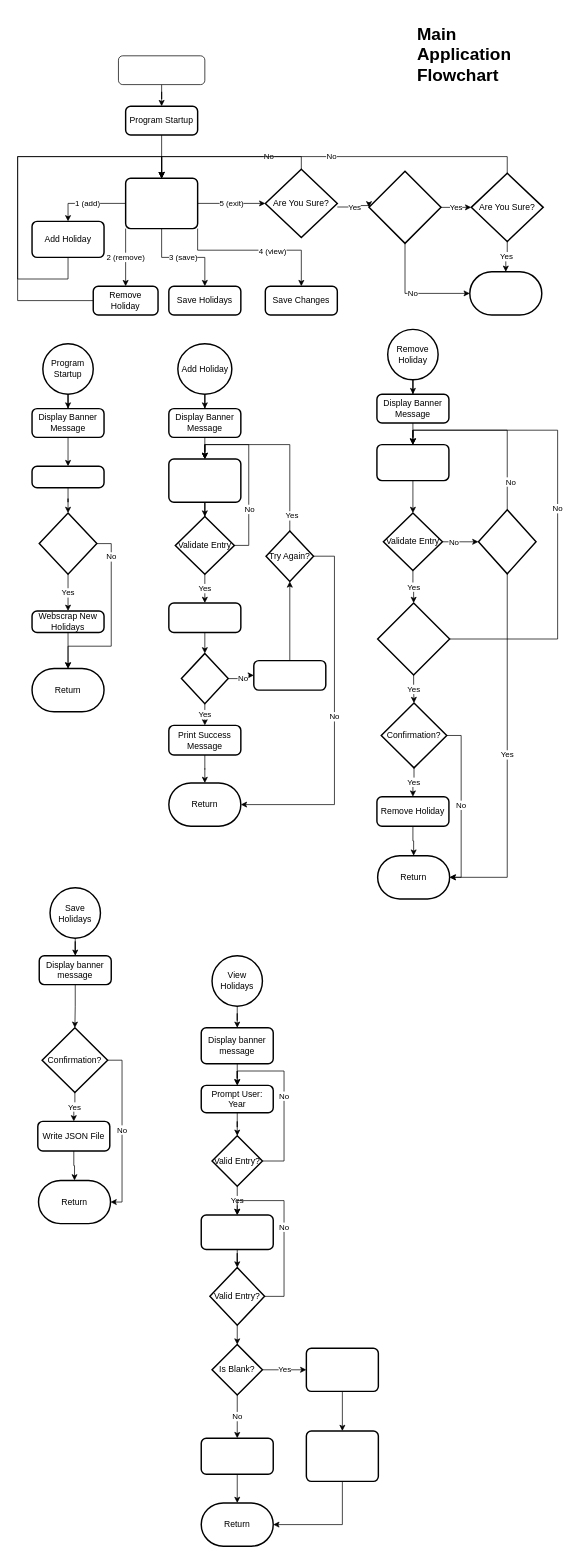
Image size: 576x1559. Some labels were removed from this diagram. The centre of each missing label's shape, as x and y in pixels:
"Add Entrant to desired slot" goes at point 204,617.
"Application Starts" goes at point 161,70.
"Call API to get Weather for this week" goes at point 342,1369.
"Exit Program" goes at point 505,293.
"Is Empty Entry?" goes at point 506,541.
"Is holiday in the list?" goes at point 413,638.
"Is Webscrapping needed?" goes at point 67,543.
"Load JSON File" goes at point 67,476.
"Main Menu: Get User Selection" goes at point 161,203.
"Print Error Message" goes at point 289,675.
"Print Holiday: Name and Date" goes at point 237,1456.
"Print Holiday: Name and Date Print Weather: Forecast" goes at point 342,1456.
"Prompt and get User Input: HolidayName" goes at point 412,462.
"Prompt and get User Input: HolidayName, HolidayDate" goes at point 204,480.
"Prompt User: Which Week" goes at point 237,1232.
"Success?" goes at point 204,678.
"Unsaved Changes?" goes at point 404,207.
